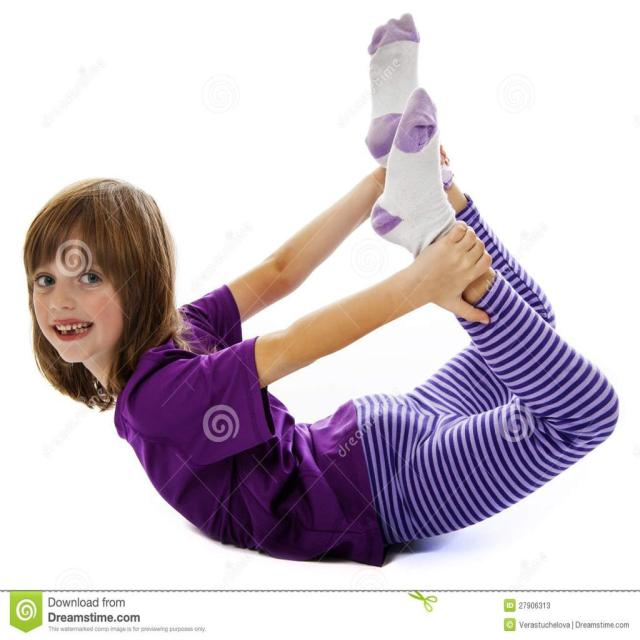Face: (19, 240, 141, 373)
